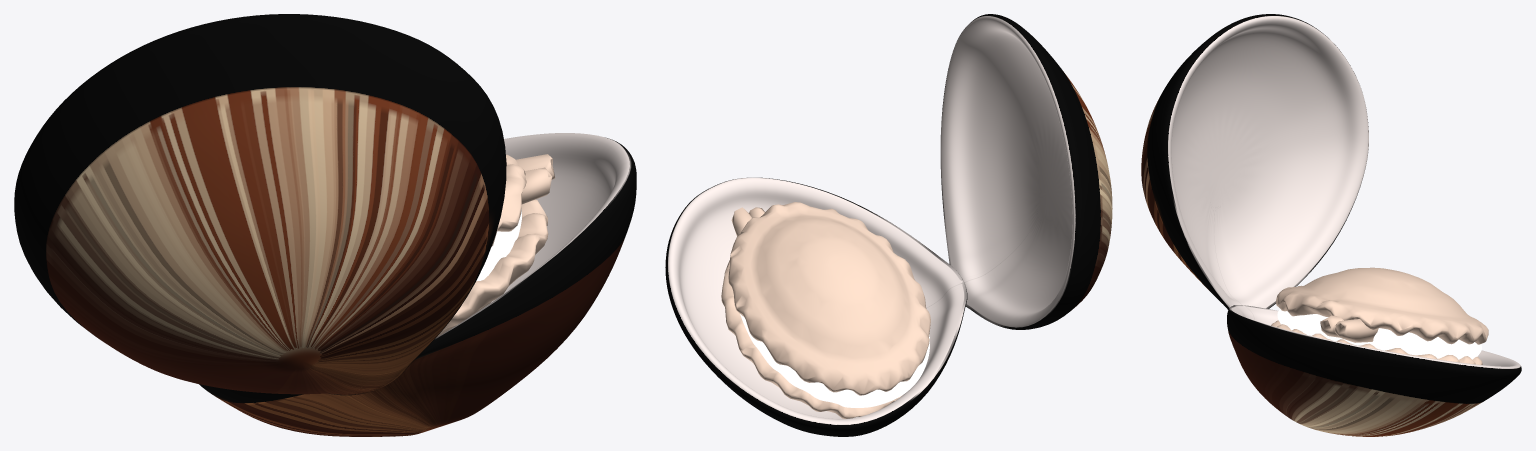
File: ham-a.glb
3 views of the same model, side by side, from view 1: azimuth 30°, elevation 25°; view 2: azimuth 150°, elevation 25°; view 3: azimuth 270°, elevation 25° (orthographic). The views are drawn at different scales.
Parts seen in each view (by area): view 1: object; view 2: object; view 3: object.
Part boxes in pixels (<box>): object: <box>14,14,636,436</box>; object: <box>665,14,1112,436</box>; object: <box>1141,14,1521,436</box>.
Bounding box in the file's own units: 0.7724 × 0.6536 × 0.6483.
3 materials, 1 textured.
